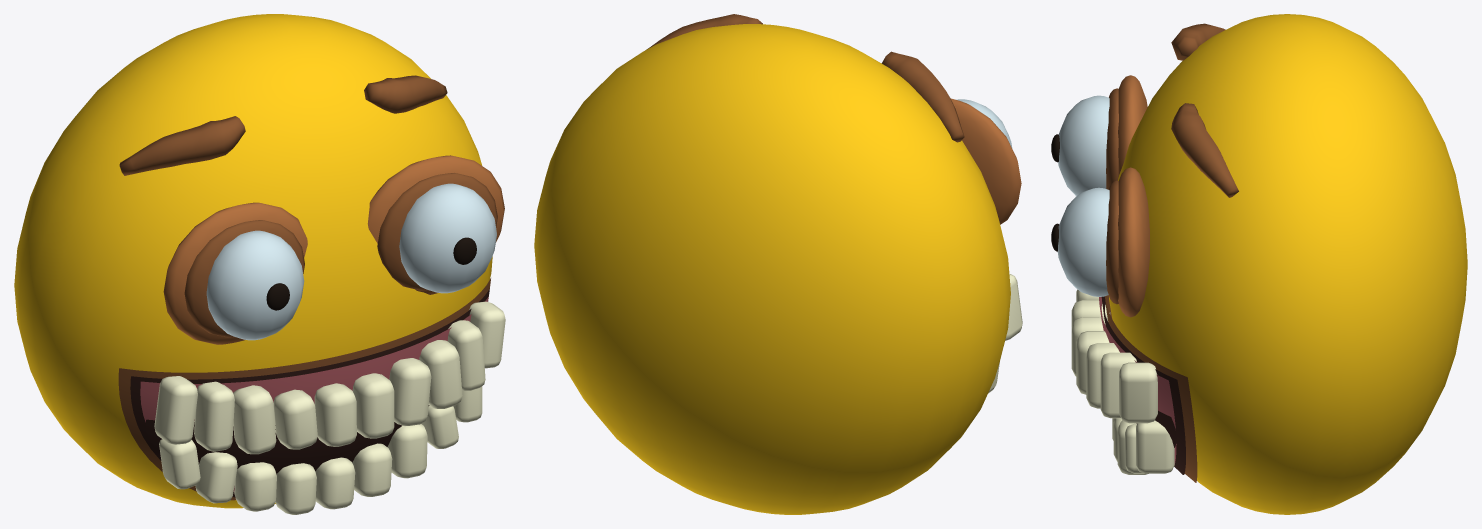
The model's file is smiley_no_tears_lowpoly.glb.
The picture shows the model from 3 angles, left to right: view 1: azimuth 30°, elevation 25°; view 2: azimuth 150°, elevation 25°; view 3: azimuth 270°, elevation 25°; orthographic projection. The views are drawn at different scales.
Visible parts, largest first — view 1: Head, Eyeball.001, Eyeball, Eye socket, Smile golden border, Gums, Raised eyebrow, Eye socket.001, Eye dark inset, Eye dark inset.001, Space between tooth rows, Upper tooth 02 (+20 smaller); view 2: Head, Eye socket, Raised eyebrow, Raised eyebrow.001, Upper tooth 00; view 3: Head, Eyeball.001, Eye socket.001, Eyeball, Raised eyebrow.001, Upper tooth 09, Smile golden border, Lower tooth 08, Eye socket, Upper tooth 08, Eye dark inset.001, Mouth cavity (+9 smaller).
Boxes of the visible parts, x1,y1,x2,y2 form: Head: (14, 14, 492, 508); Eyeball.001: (399, 183, 496, 293); Eyeball: (206, 230, 304, 340); Eye socket: (163, 202, 307, 344); Smile golden border: (118, 278, 490, 500); Gums: (140, 297, 488, 491); Raised eyebrow: (119, 116, 245, 175); Eye socket.001: (367, 155, 504, 294); Eye dark inset: (184, 220, 304, 337); Eye dark inset.001: (377, 173, 497, 290); Space between tooth rows: (145, 405, 429, 474); Upper tooth 02: (233, 385, 276, 454); Head: (534, 24, 1010, 514); Eye socket: (950, 98, 1021, 224); Raised eyebrow: (881, 51, 964, 142); Raised eyebrow.001: (646, 14, 762, 49); Upper tooth 00: (1005, 274, 1022, 340); Head: (1109, 14, 1467, 514); Eyeball.001: (1057, 187, 1109, 296); Eye socket.001: (1118, 167, 1149, 317); Eyeball: (1058, 95, 1109, 195); Raised eyebrow.001: (1171, 103, 1238, 197); Upper tooth 09: (1119, 362, 1157, 423); Smile golden border: (1105, 295, 1197, 482); Lower tooth 08: (1136, 420, 1174, 473); Eye socket: (1118, 75, 1147, 177); Upper tooth 08: (1100, 352, 1136, 418); Eye dark inset.001: (1106, 180, 1118, 304); Mouth cavity: (1101, 296, 1185, 474).
Bounding box in the file's own units: 2 × 2 × 1.66.
